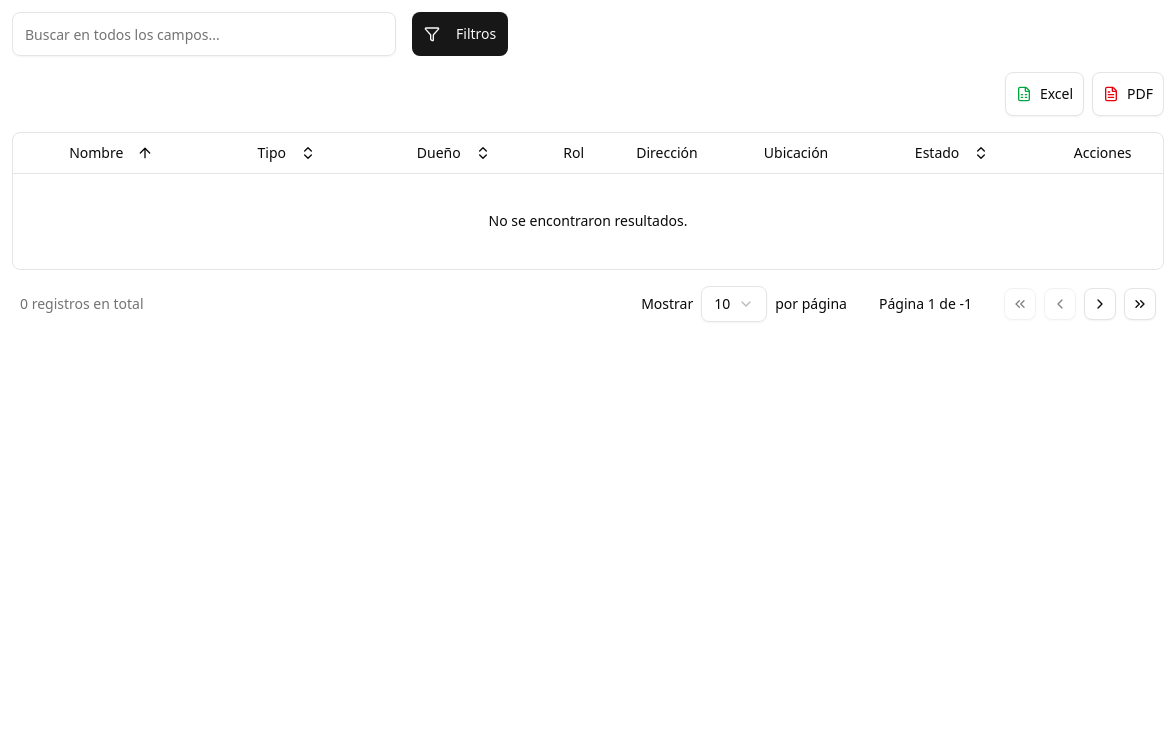
it: EnvironmentsTable server-side sorting › falls back to valid defaults when the URL contains invalid sorting
Click the button "Filtros".
click(460, 34)  # box [412,12,508,56]
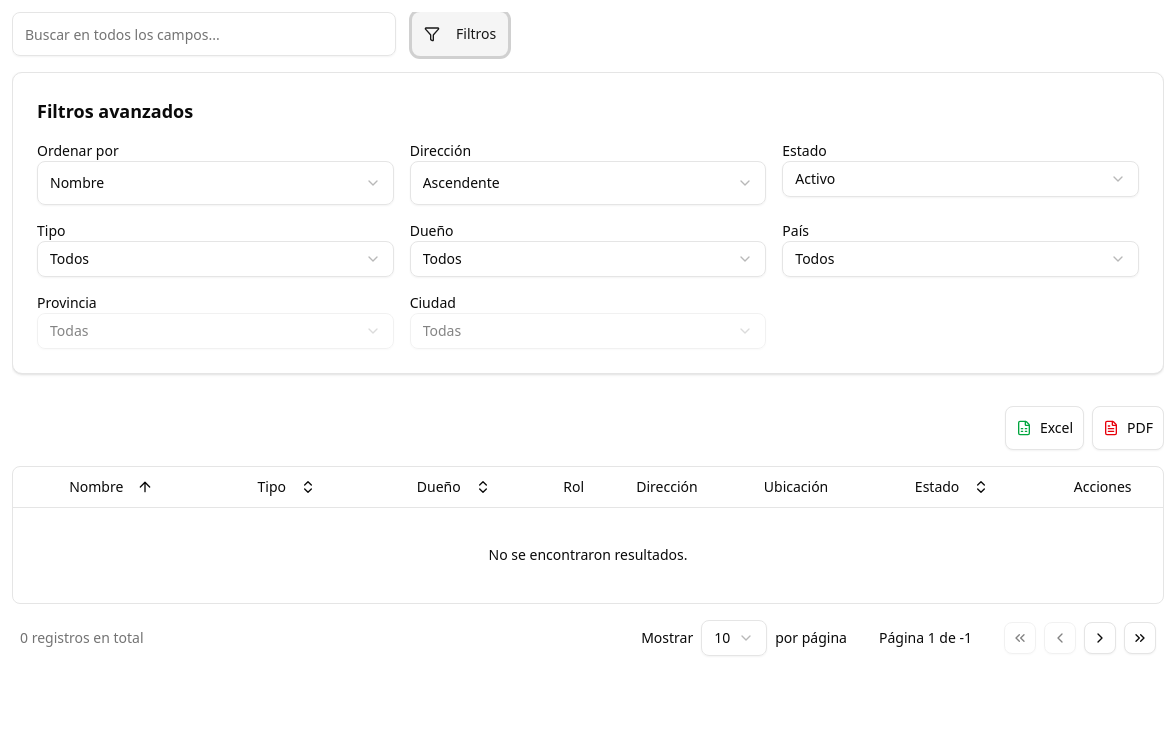
Expected: the dropdown labelled "Nombre" is shown, [37,161,394,205]
Expected: the dropdown labelled "Ascendente" is shown, [410,161,766,205]
